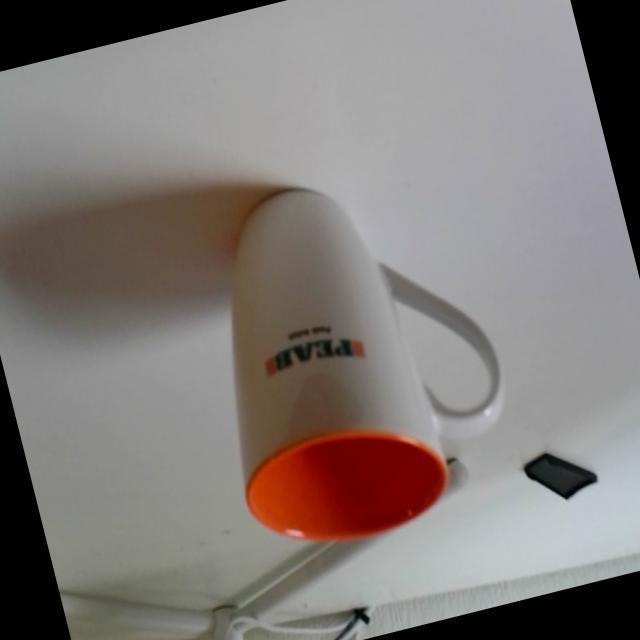cup: (167, 149, 536, 561)
